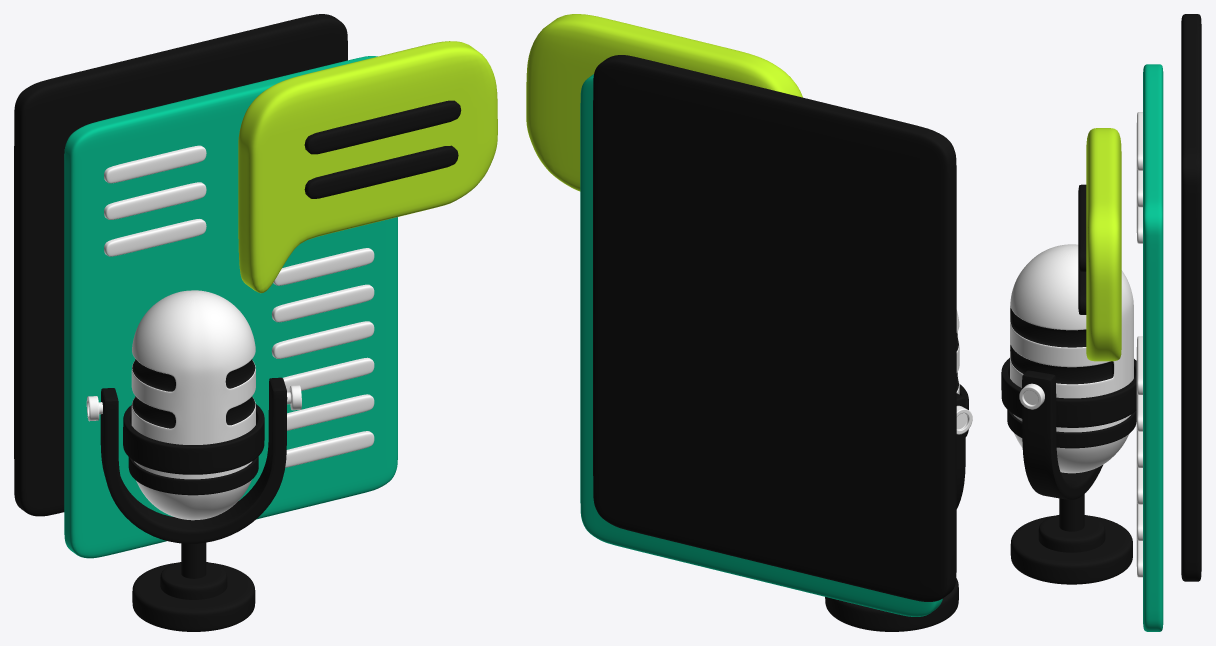
Rendered from podcast-topics-3d-animated-icon-125700039728.glb.
3 views of the same model, side by side, from view 1: azimuth 30°, elevation 25°; view 2: azimuth 150°, elevation 25°; view 3: azimuth 270°, elevation 25° (orthographic). The views are drawn at different scales.
Visible parts, largest first — view 1: Plane.152, Plane.153, Cube.041, Sphere.042, Cylinder.163, Sphere.043, Plane.154, Plane.001, Plane.005, Plane.003, Plane.002, Plane.004 (+6 smaller); view 2: Plane.153, Cube.041, Plane.152, Cylinder.163; view 3: Sphere.042, Cylinder.163, Plane.153, Plane.152, Cube.041, Sphere.043, Plane.154, Cylinder.164, Plane.001, Plane.002, Plane.155.
Boxes of the visible parts, x1=… form: Plane.152: x1=64, y1=56, x2=397, y2=558; Plane.153: x1=14, y1=14, x2=347, y2=516; Cube.041: x1=238, y1=41, x2=497, y2=293; Sphere.042: x1=131, y1=290, x2=255, y2=520; Cylinder.163: x1=100, y1=377, x2=287, y2=631; Sphere.043: x1=123, y1=404, x2=264, y2=495; Plane.154: x1=304, y1=100, x2=461, y2=154; Plane.001: x1=304, y1=145, x2=458, y2=198; Plane.005: x1=271, y1=284, x2=374, y2=322; Plane.003: x1=104, y1=182, x2=206, y2=219; Plane.002: x1=104, y1=145, x2=206, y2=183; Plane.004: x1=104, y1=219, x2=206, y2=256; Plane.153: x1=593, y1=55, x2=956, y2=601; Cube.041: x1=526, y1=14, x2=802, y2=191; Plane.152: x1=580, y1=74, x2=942, y2=616; Cylinder.163: x1=825, y1=393, x2=965, y2=631; Sphere.042: x1=1010, y1=244, x2=1133, y2=473; Cylinder.163: x1=1010, y1=370, x2=1132, y2=584; Plane.153: x1=1181, y1=14, x2=1201, y2=581; Plane.152: x1=1143, y1=64, x2=1163, y2=631; Cube.041: x1=1086, y1=128, x2=1121, y2=361; Sphere.043: x1=1001, y1=358, x2=1136, y2=448; Plane.154: x1=1078, y1=184, x2=1086, y2=271; Cylinder.164: x1=1019, y1=383, x2=1044, y2=409; Plane.001: x1=1078, y1=266, x2=1086, y2=314; Plane.002: x1=1136, y1=112, x2=1142, y2=170; Plane.155: x1=1136, y1=336, x2=1142, y2=394.
Size of the model in its own units: 4.83 by 5.37 by 1.95.
